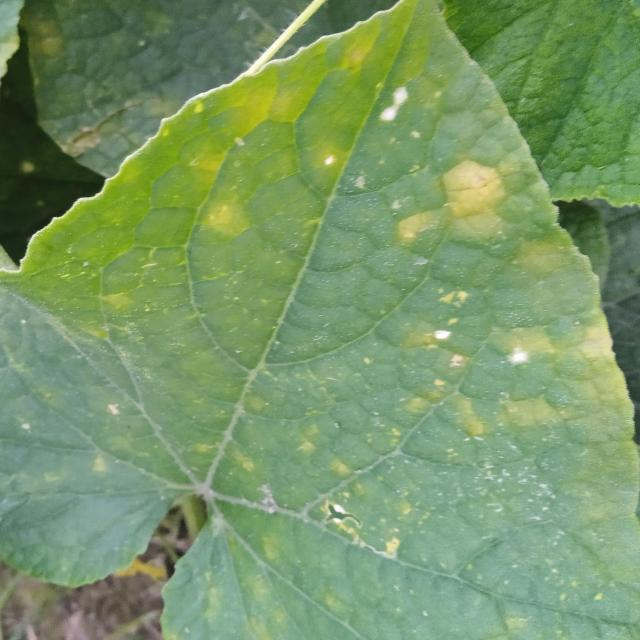cucumber_downy: (41, 86, 608, 581)
